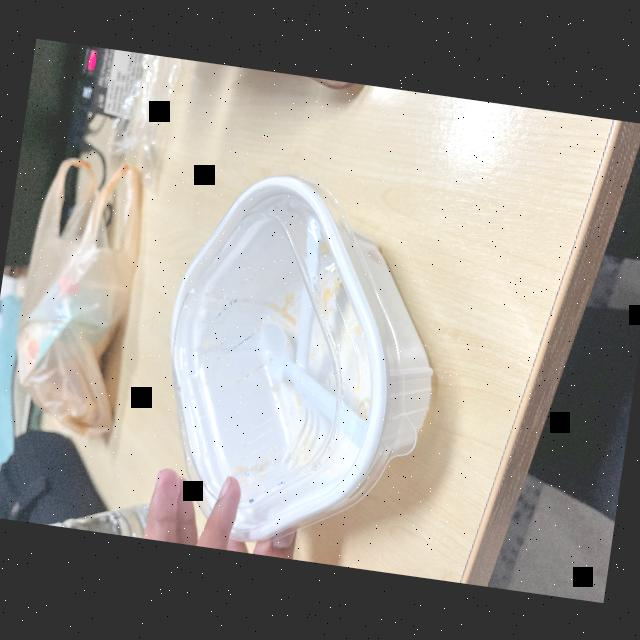plastic_box: (134, 142, 464, 575)
